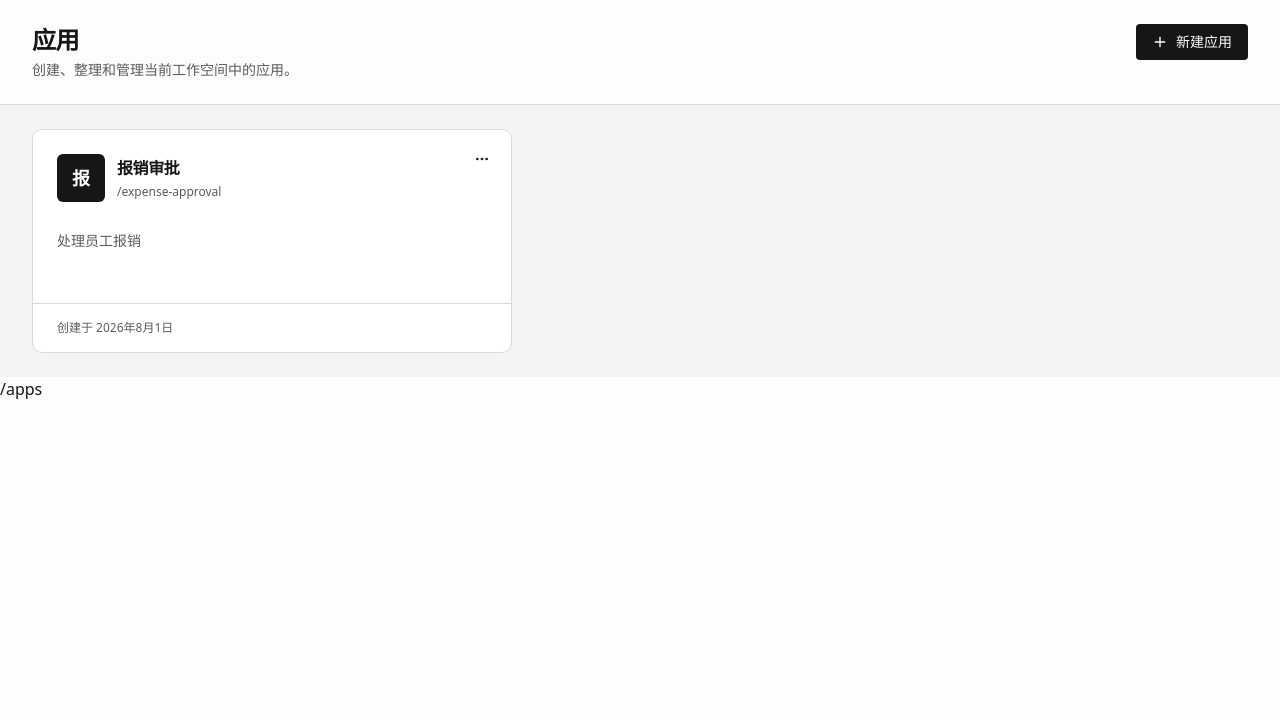
Test case: app management › renames the app without changing its URL or description
This screenshot has width=1280, height=720.
Press Enter in the button named "操作应用「报销审批」", box [464,141,500,177]
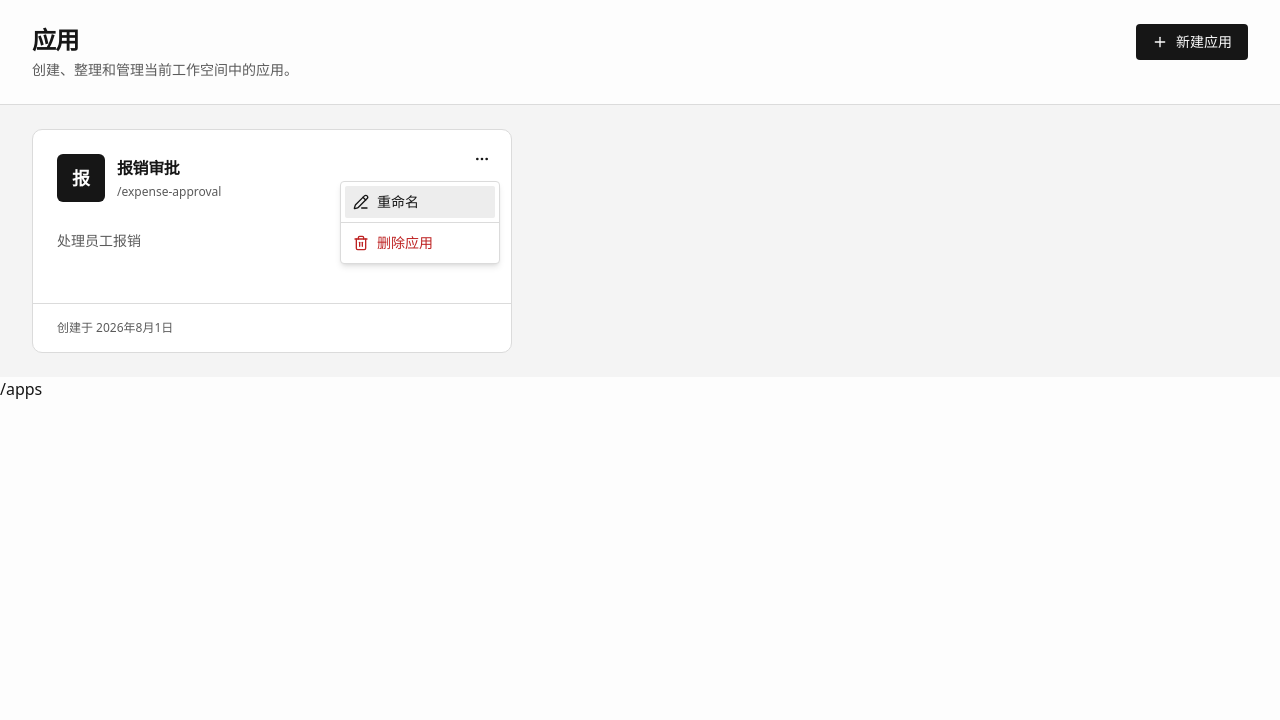
Click the menu item "重命名": x=420, y=202 [345,186,495,218]
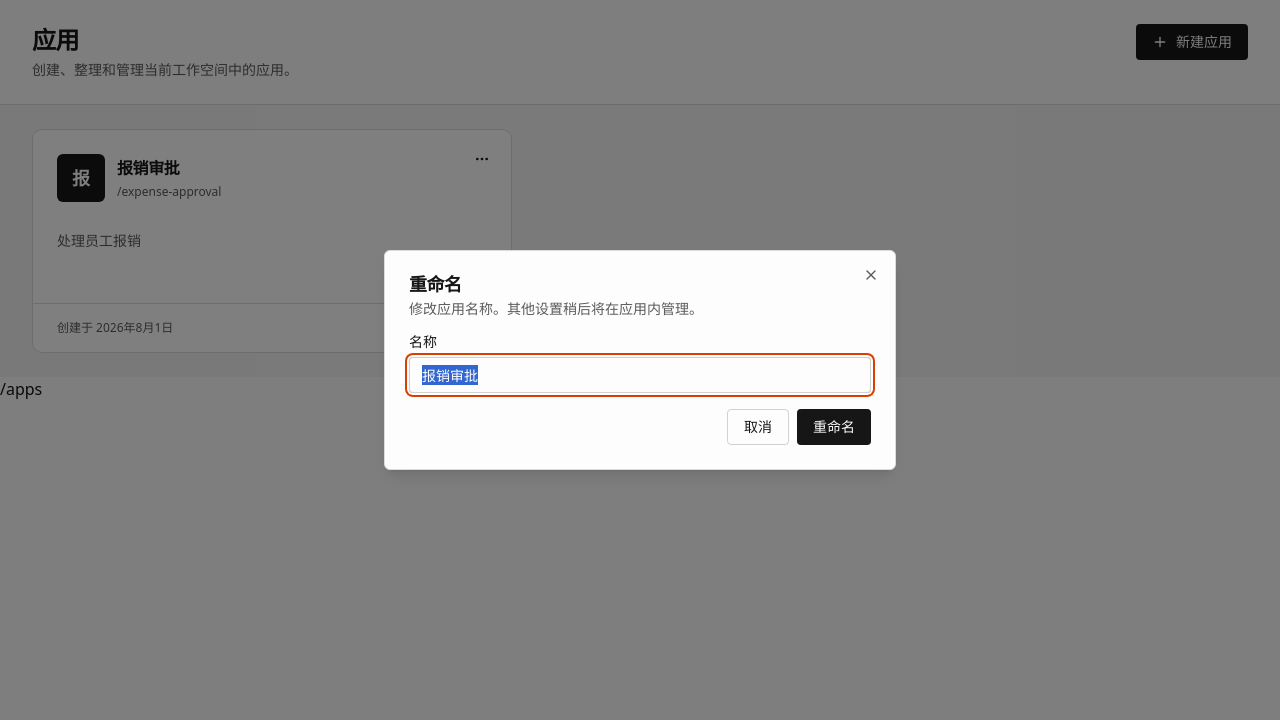
Replace the text in the field with test id "rename-app-name" with "费用审批": x=640, y=375 [409,357,871,393]
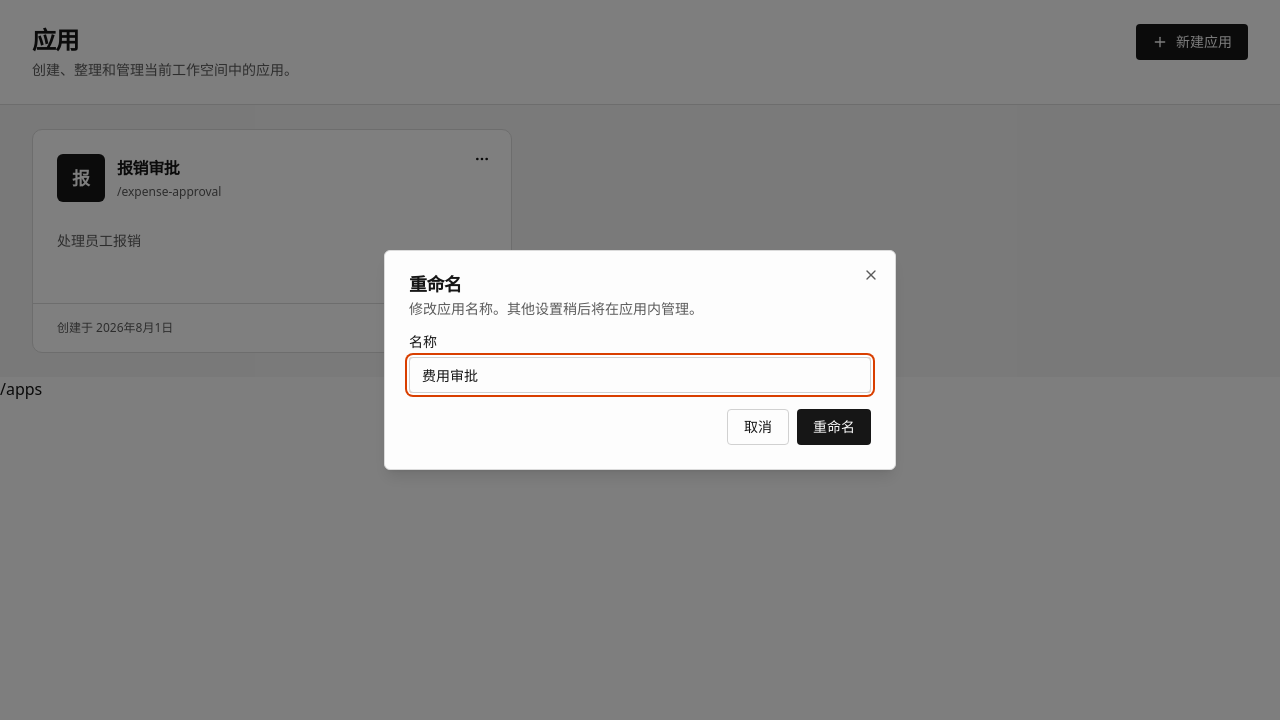
Click the button with test id "rename-app-submit": x=834, y=427 [797,409,871,445]
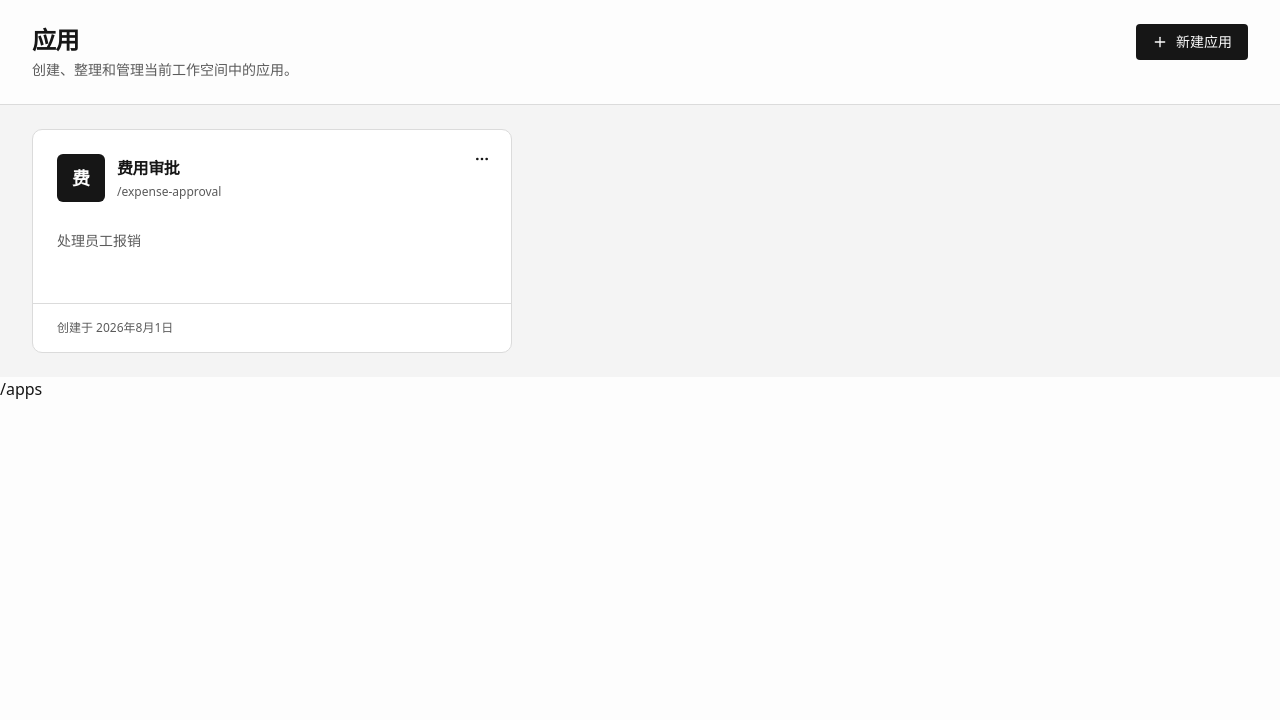
Expected: the heading "费用审批" is shown, [117,157,179,179]
